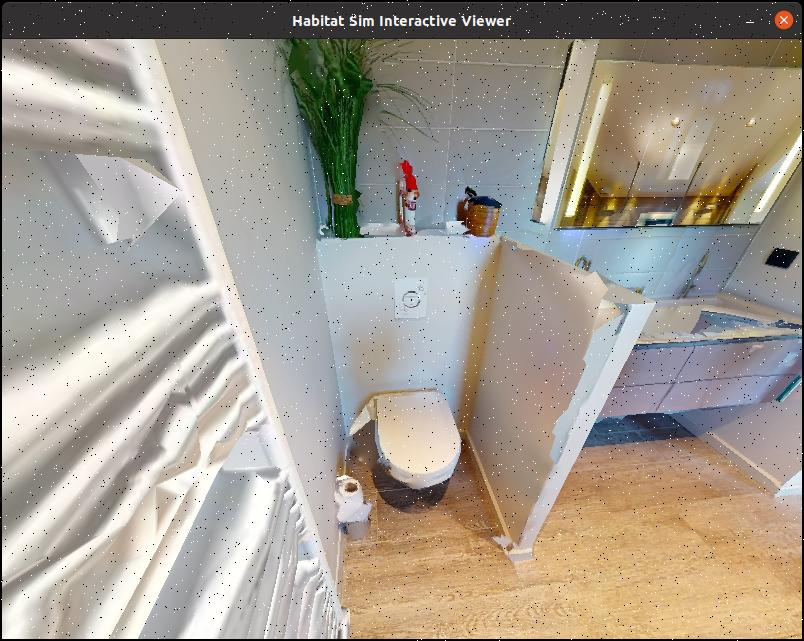toilet: (359, 375, 470, 510)
